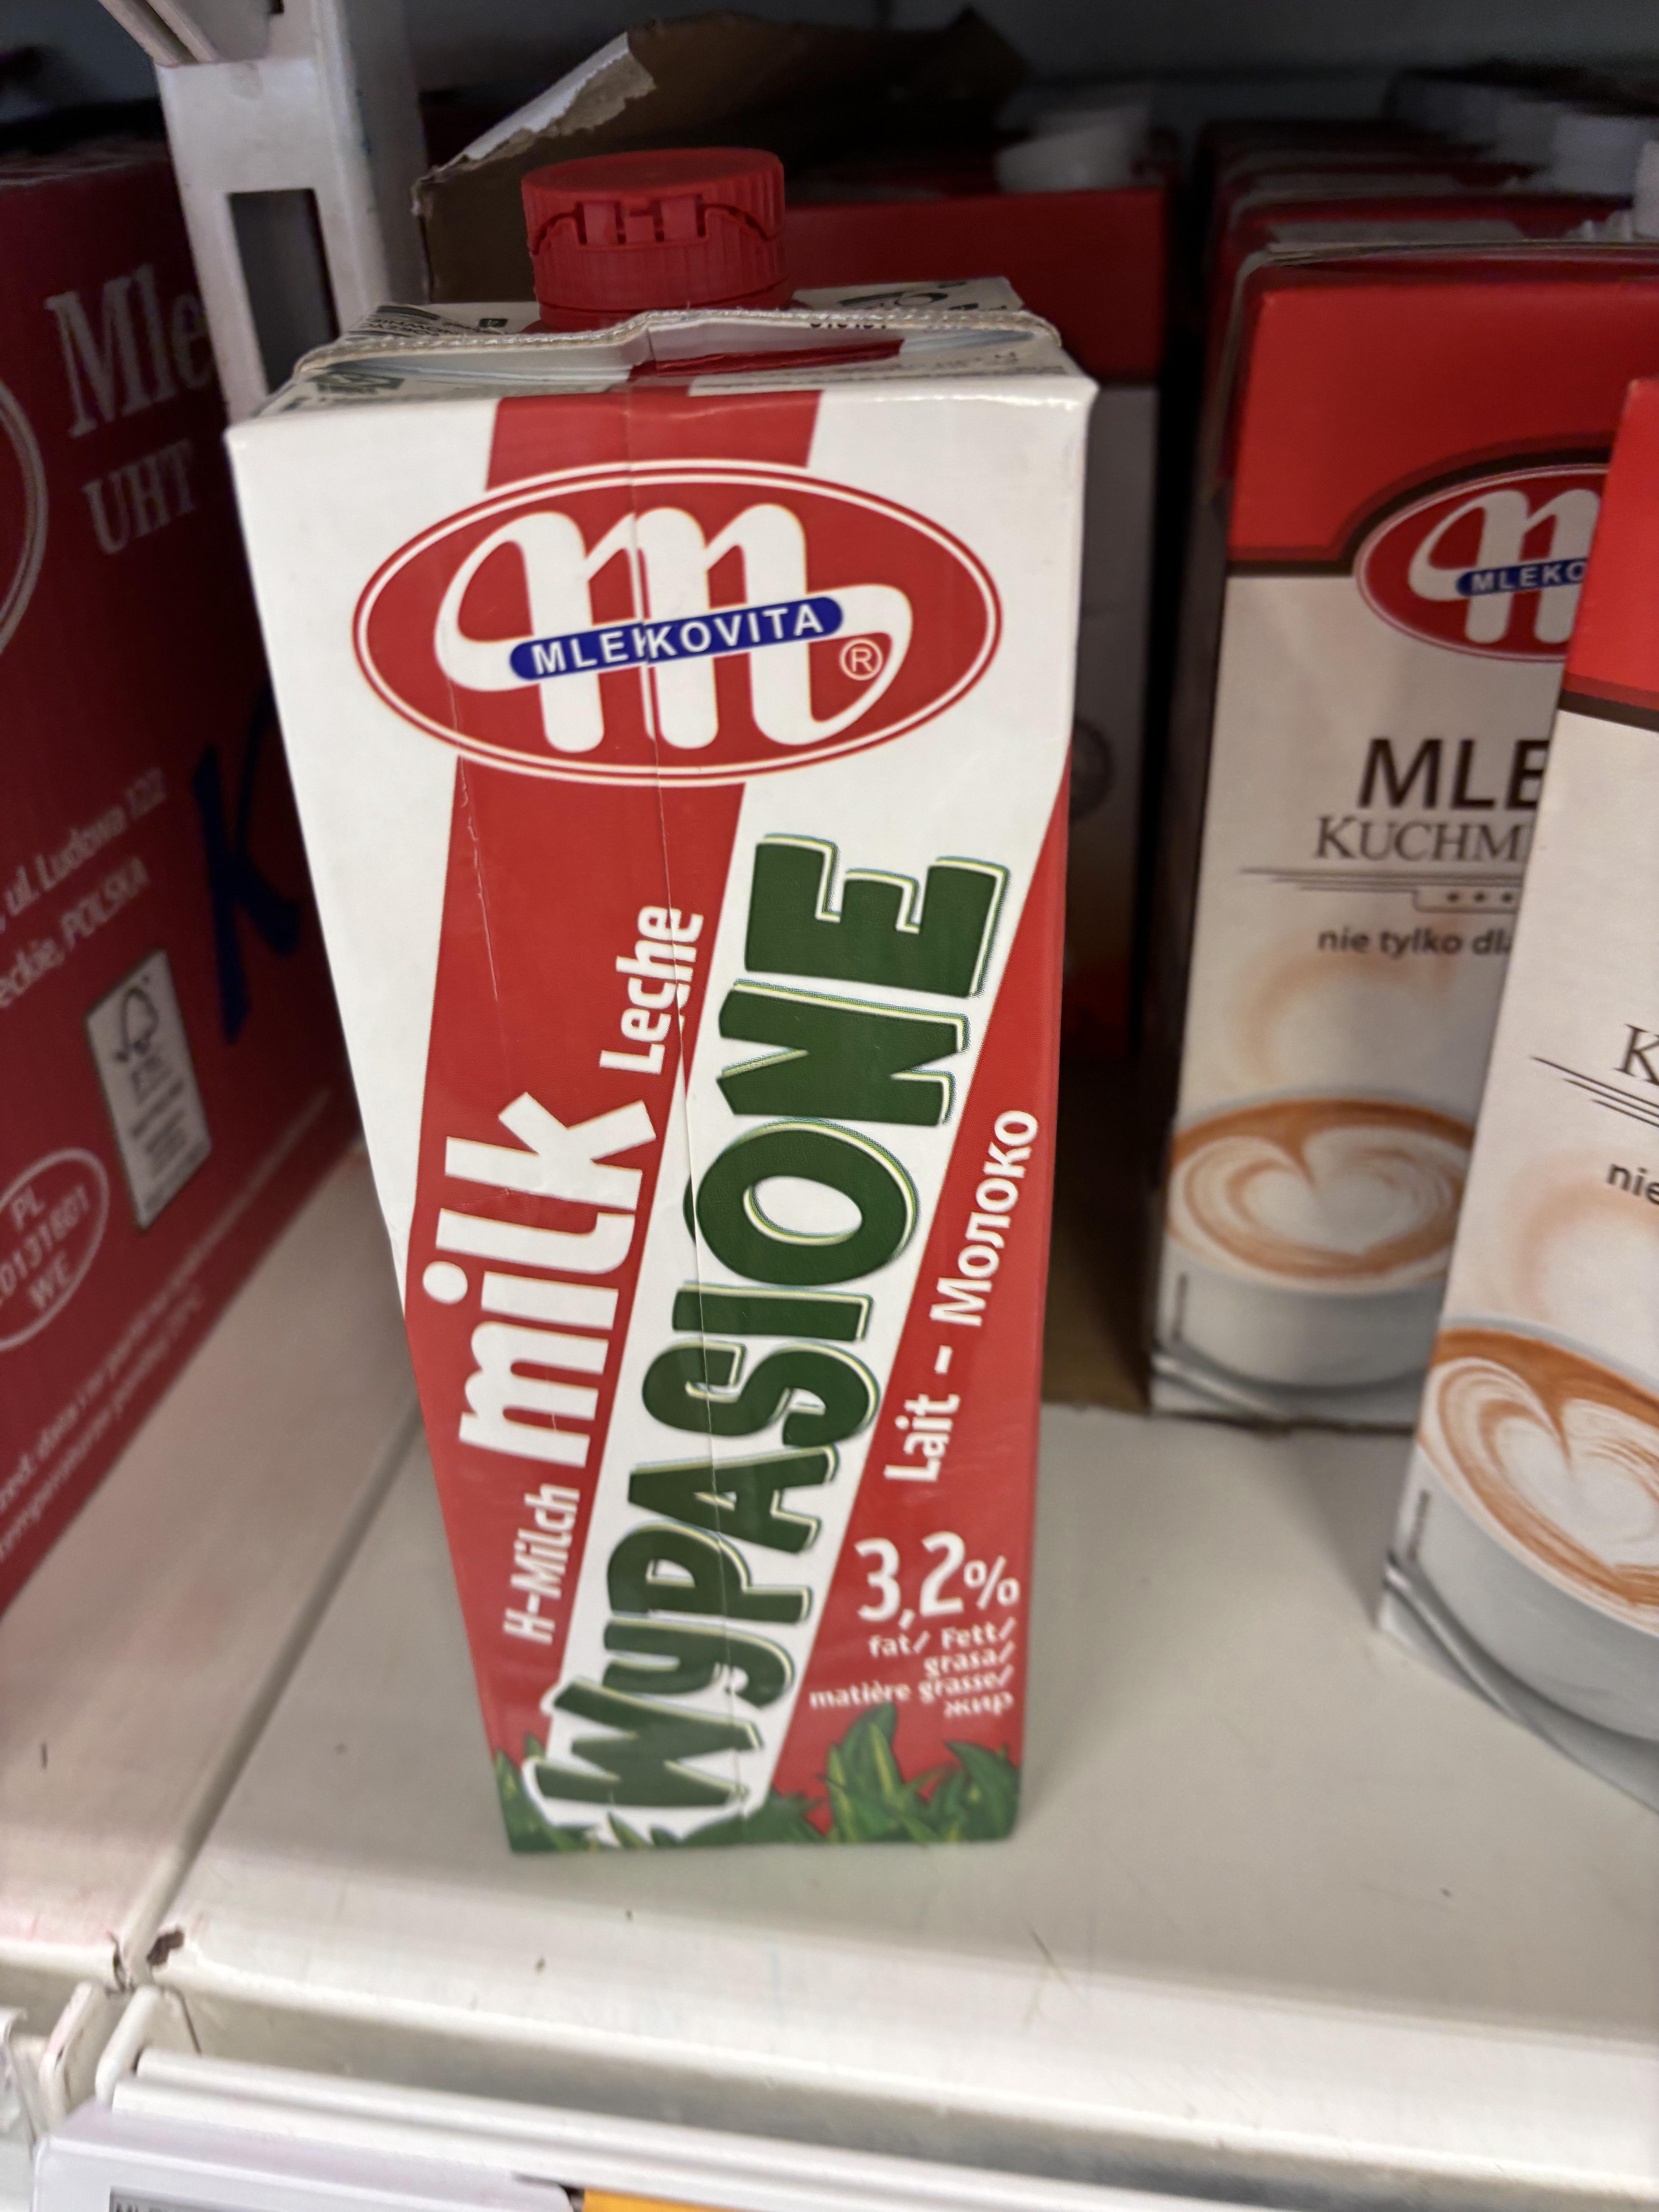Milk: (256, 298, 1079, 1886)
